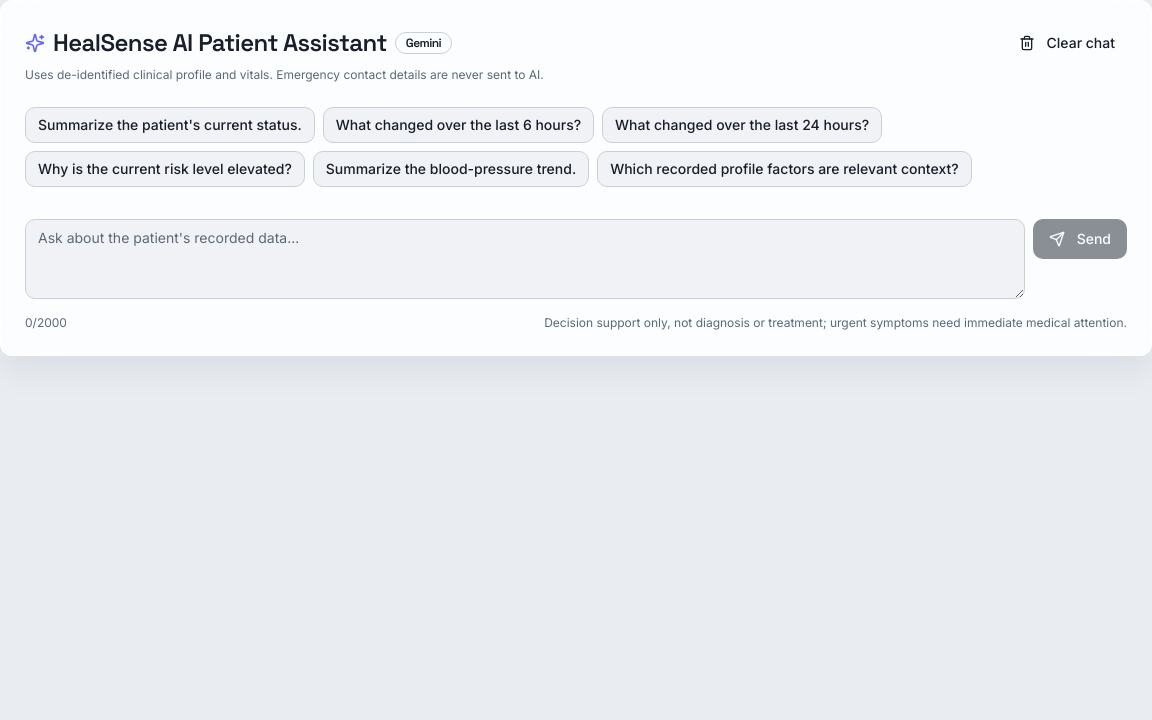
Test: PatientAssistantPanel › keeps the user message and retries without fabricating an answer
The image size is (1152, 720).
Type "question" into the text box with placeholder "Ask about the patient's recorded data...".
click(525, 259); type("question")  # box [25, 219, 1025, 299]
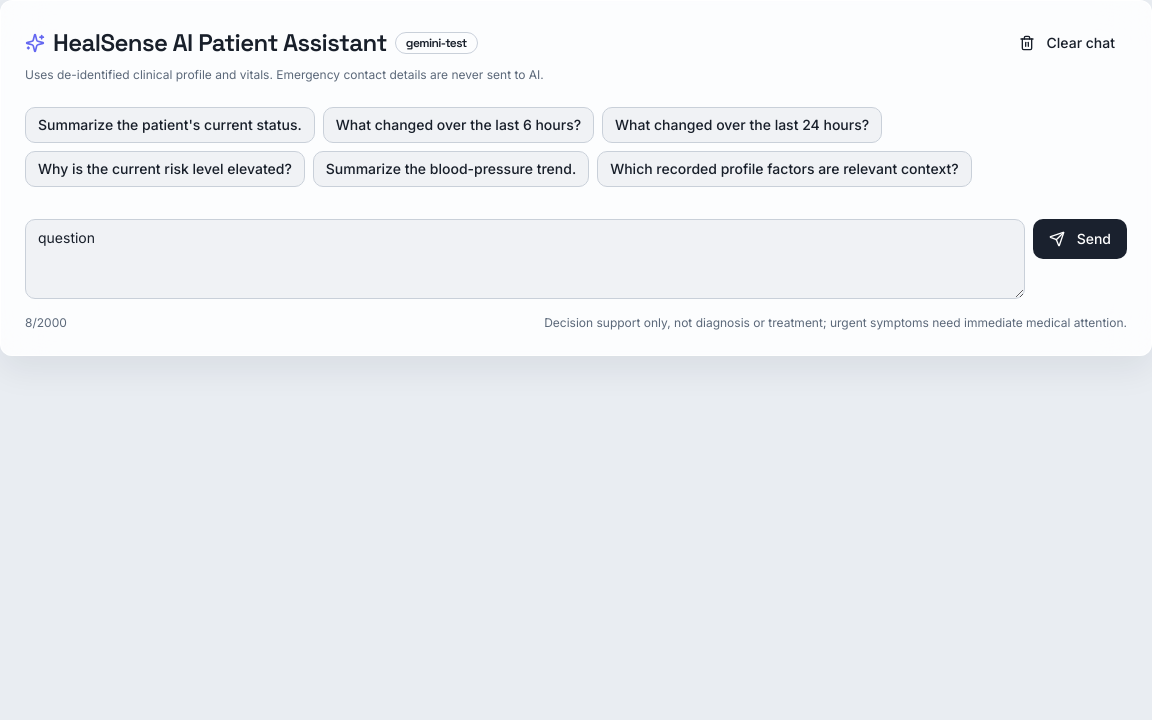
Click the button "Send".
click(1080, 239)  # box [1033, 219, 1127, 259]
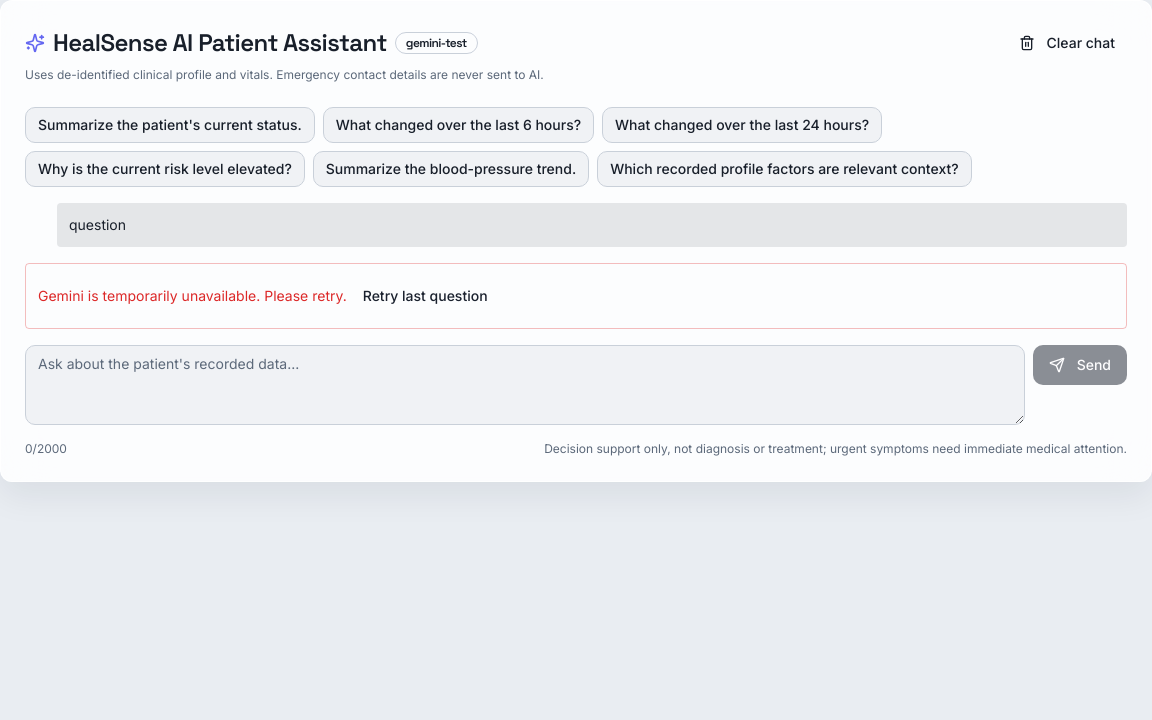
Expected: the text "Recovered" is not shown
Expected: the text "temporarily unavailable" is shown, [38, 287, 347, 304]
Expected: the text "question" is shown, [57, 203, 1127, 247]
Click the button "Retry last question".
click(425, 296)  # box [347, 276, 504, 316]
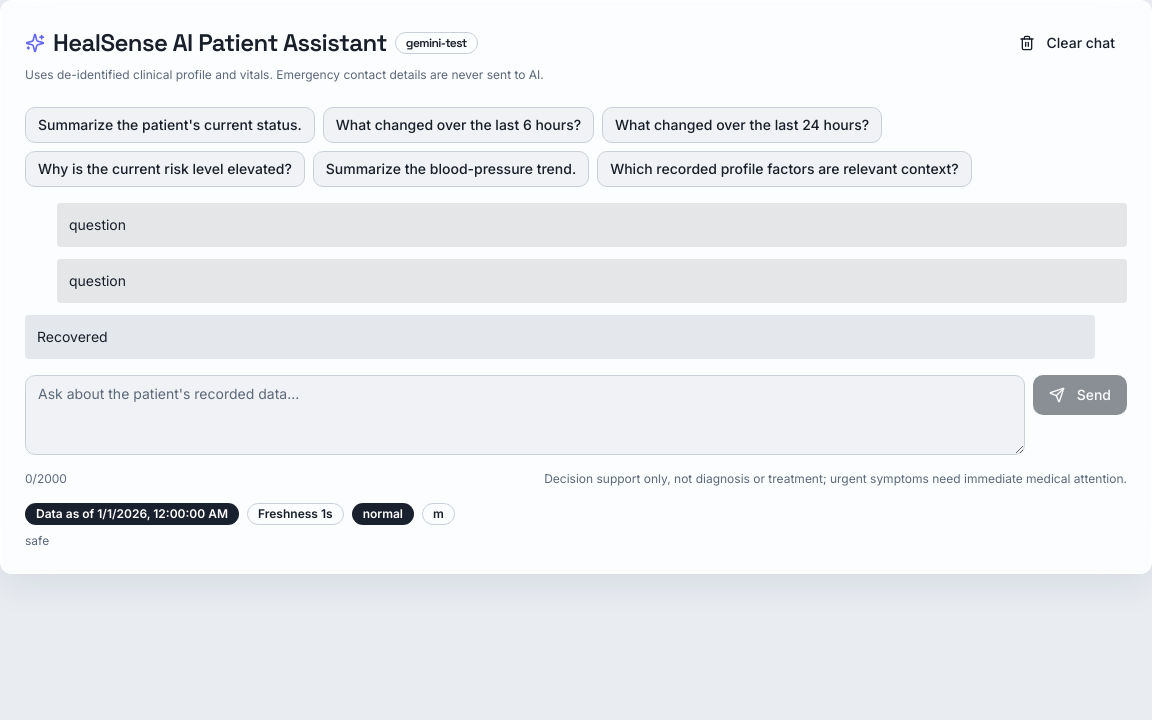
Expected: the text "Recovered" is shown, [37, 328, 108, 345]
